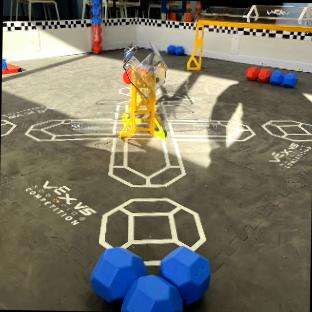Goal: (187, 3, 312, 69)
Med_goal: (121, 43, 165, 136)
V5_BLUE: (90, 246, 209, 309), (271, 71, 296, 86), (174, 45, 183, 53)
V5_RED: (246, 67, 271, 81), (123, 70, 130, 83)
